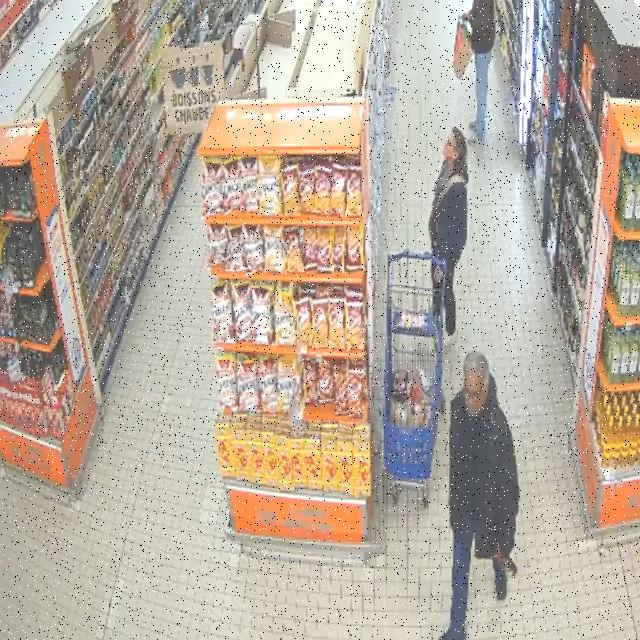article: (504, 557, 517, 578)
bags: (453, 18, 473, 79)
hands: (495, 549, 508, 568), (434, 267, 442, 282), (462, 12, 470, 21)
person: (441, 352, 519, 639), (429, 128, 468, 345), (464, 0, 495, 145)
